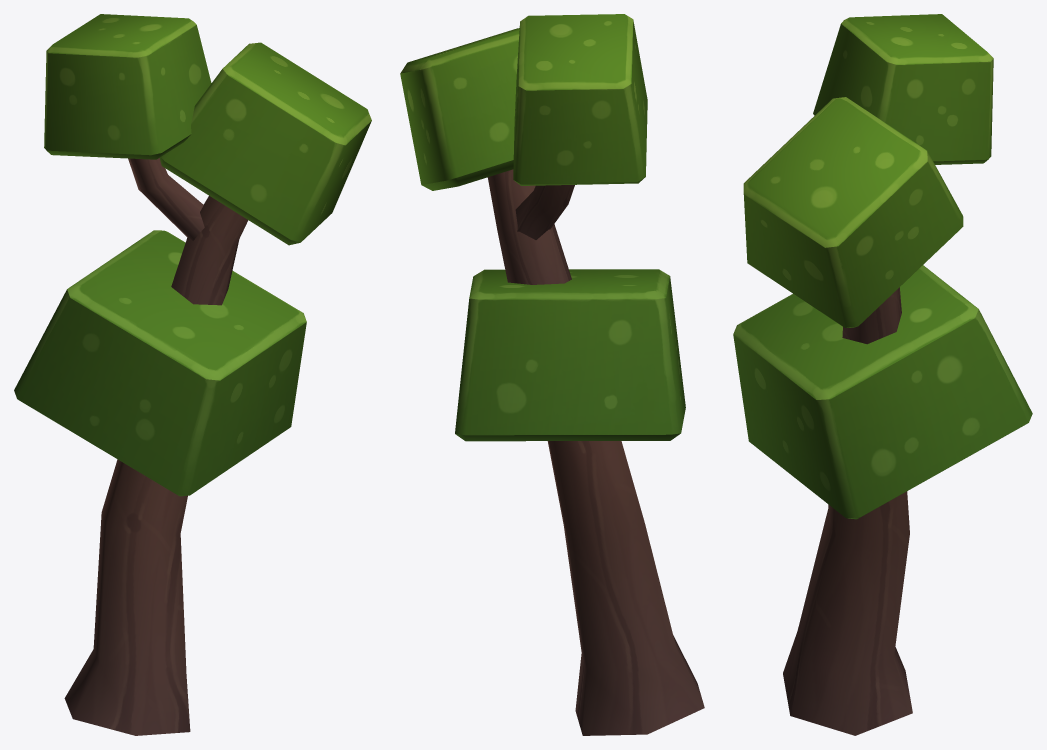
The model's file is forest_tree_06.fbx.
3 renders of one model, left to right at view 1: azimuth 30°, elevation 25°; view 2: azimuth 150°, elevation 25°; view 3: azimuth 270°, elevation 25°, orthographic. The views are drawn at different scales.
Visible parts, largest first — view 1: forest_tree_06; view 2: forest_tree_06; view 3: forest_tree_06.
Part boxes in pixels (bbox=[...]): forest_tree_06: bbox=[14, 14, 371, 735]; forest_tree_06: bbox=[400, 14, 704, 735]; forest_tree_06: bbox=[733, 14, 1032, 735].
Size of the model in its own units: 3.16 by 6.6 by 2.57.
